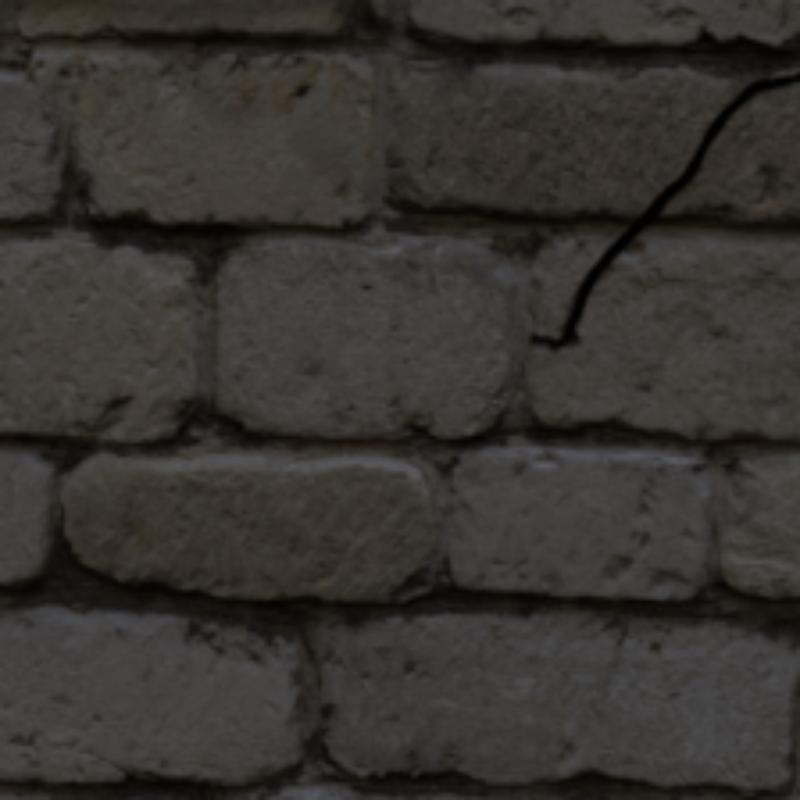pothole: (532, 71, 796, 346)
